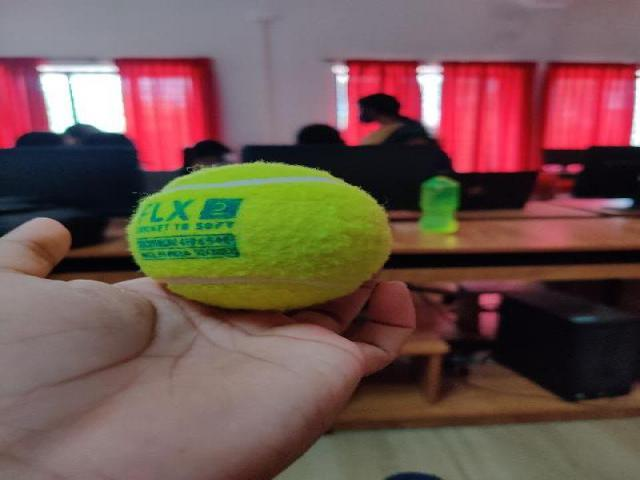tennis-ball: (127, 162, 393, 310)
